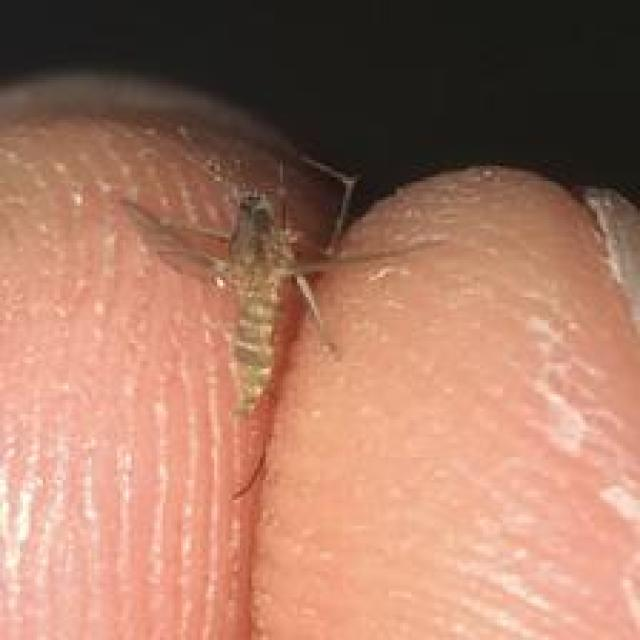Culex: (120, 157, 363, 500)
